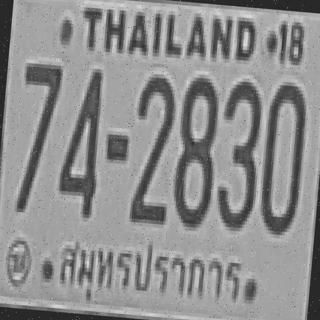N00: (256, 80, 308, 232)
N02: (127, 71, 176, 223)
N03: (212, 76, 264, 228)
N04: (55, 63, 104, 215)
N07: (12, 59, 62, 211)
N08: (170, 73, 218, 225)
P57: (52, 230, 248, 320)
